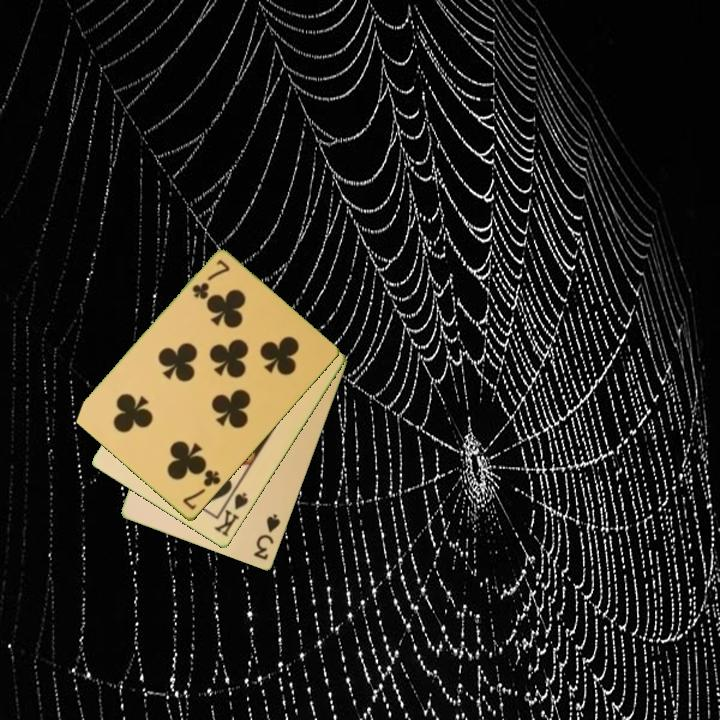3s: (250, 511, 284, 563)
7c: (188, 256, 233, 303), (179, 466, 223, 513)
Ks: (211, 484, 251, 540)
